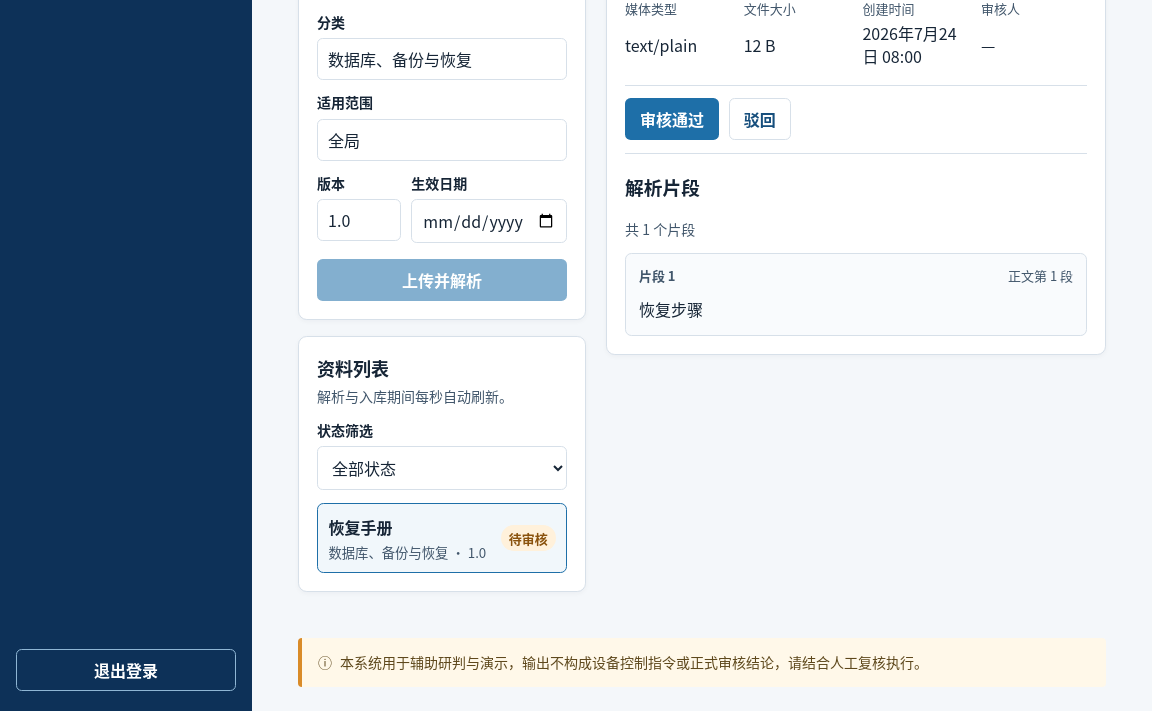
Scenario: retains the selected metadata and parse preview when an approval action fails
(page scrolled)
Click the button "恢复手册 数据库、备份与恢复 · 1.0 待审核".
click(442, 538)  # box [317, 503, 567, 573]
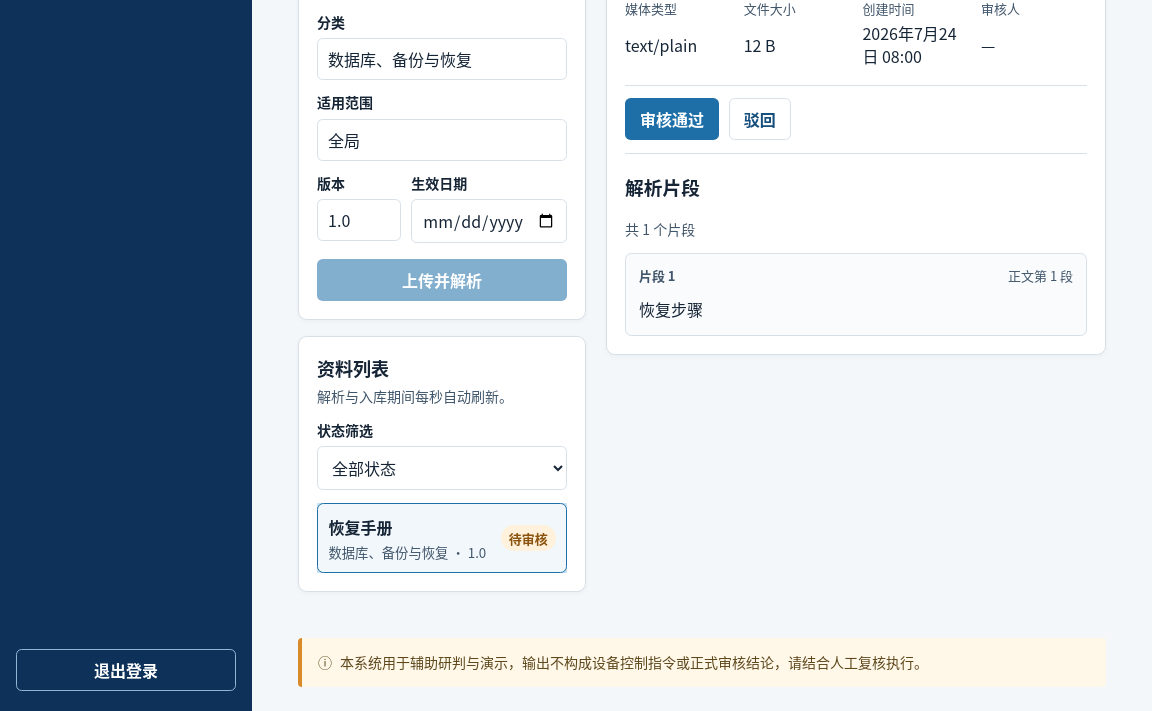
Click the button "审核通过".
click(672, 119)  # box [625, 98, 719, 140]
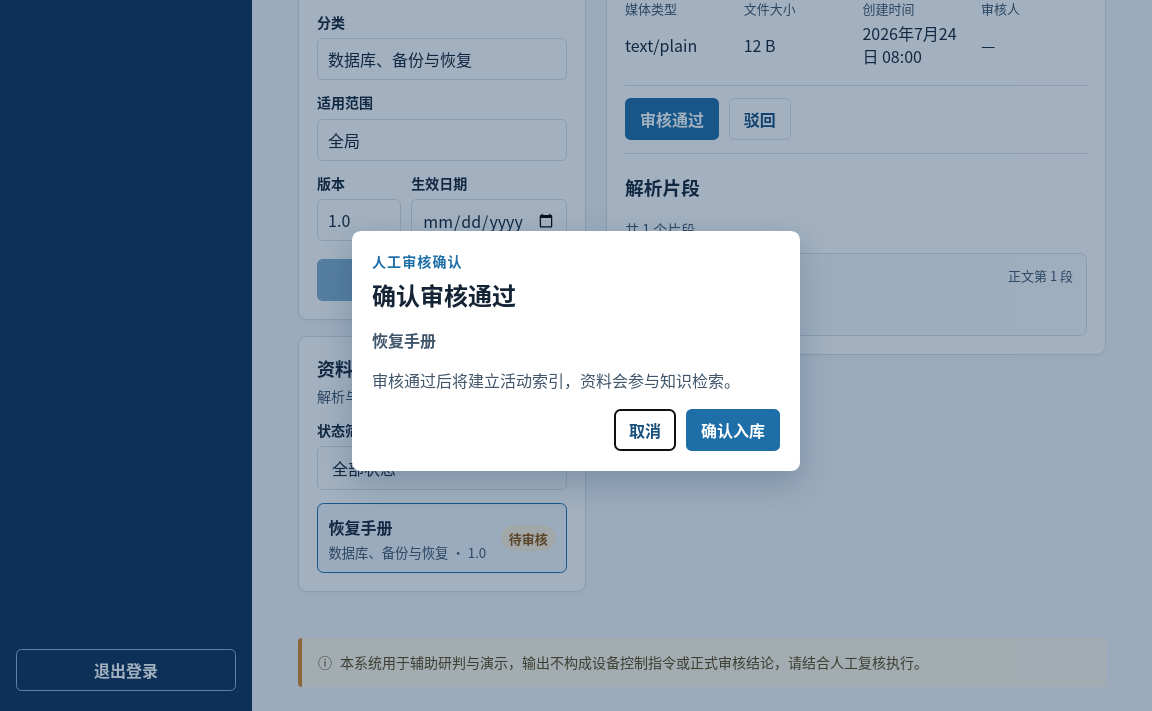
Click the button "确认入库".
click(733, 430)  # box [686, 409, 780, 451]
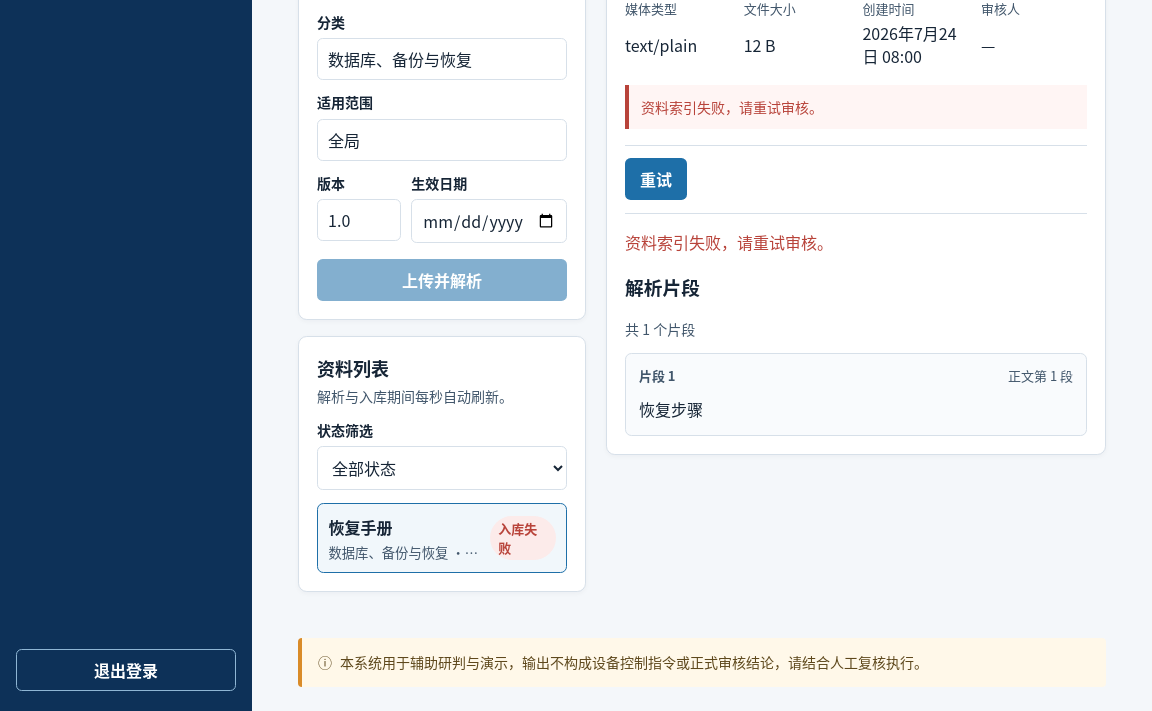
Expected: the text "恢复步骤" is shown, [639, 397, 703, 421]
Expected: the button "重试" is enabled, [625, 158, 687, 200]
Expected: the text "入库失败" is shown, [490, 516, 556, 560]
